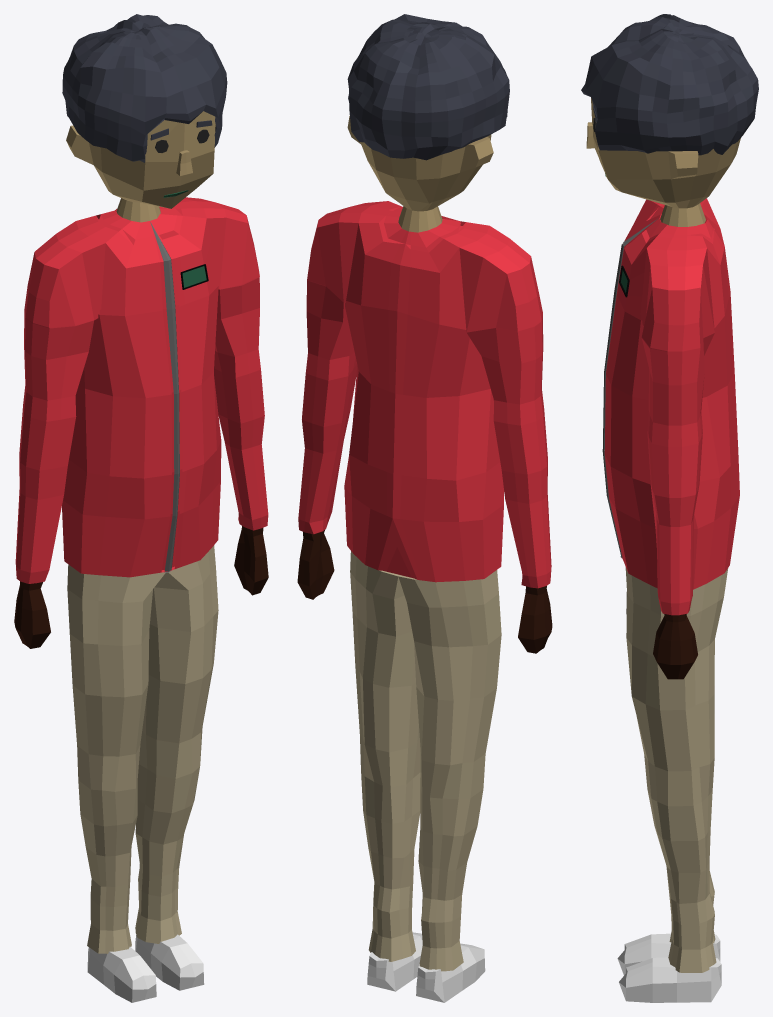
The model's file is money collector.fbx.
The picture shows the model from 3 angles, left to right: view 1: azimuth 30°, elevation 25°; view 2: azimuth 150°, elevation 25°; view 3: azimuth 270°, elevation 25°; orthographic projection.
Visible parts, largest first — view 1: Cylinder.015; view 2: Cylinder.015; view 3: Cylinder.015.
Boxes of the visible parts, x1=… form: Cylinder.015: x1=14, y1=14, x2=268, y2=1002; Cylinder.015: x1=297, y1=14, x2=552, y2=1002; Cylinder.015: x1=581, y1=14, x2=758, y2=1002.
Bounding box in the file's own units: 42.97 × 158 × 26.63.
